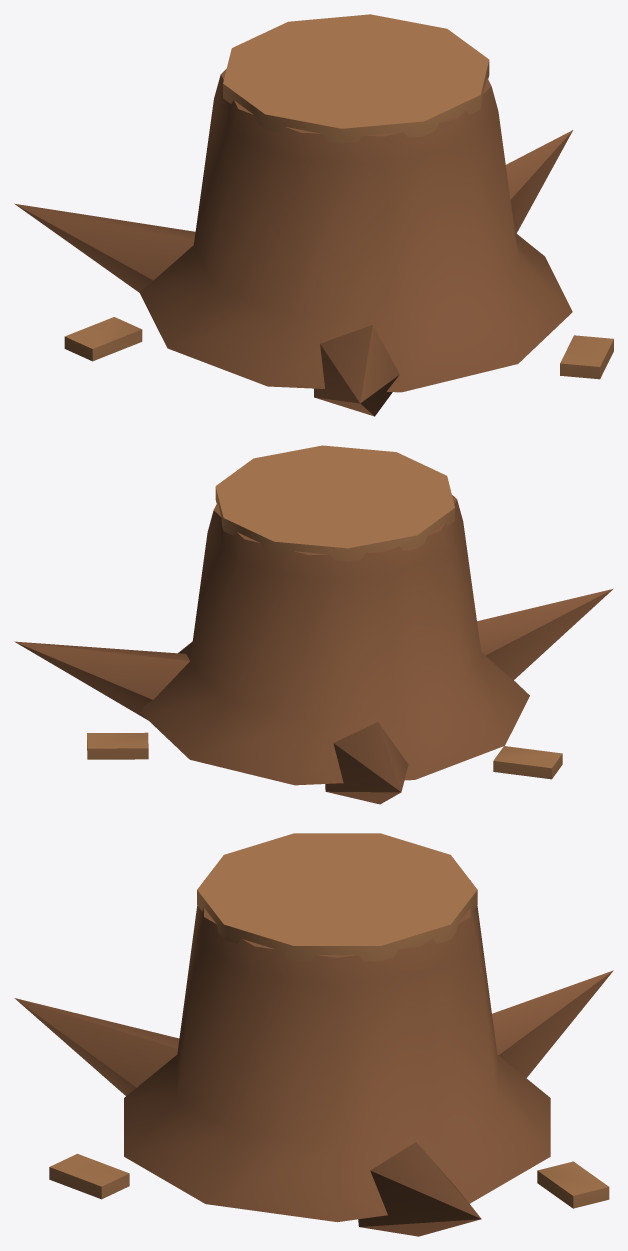
File: tree_stump.glb
3 renders of one model, top to bottom at view 1: azimuth 30°, elevation 25°; view 2: azimuth 150°, elevation 25°; view 3: azimuth 270°, elevation 25°, orthographic. The views are drawn at different scales.
Visible parts, largest first — view 1: Stump; view 2: Stump; view 3: Stump.
Part boxes in pixels (x1,y1,x2,y2): Stump: [14, 14, 613, 416]; Stump: [14, 445, 613, 804]; Stump: [14, 833, 613, 1236].
Bounding box in the file's own units: 0.4694 × 0.2237 × 0.4278.
Materials: 1 (1 with a texture image).
